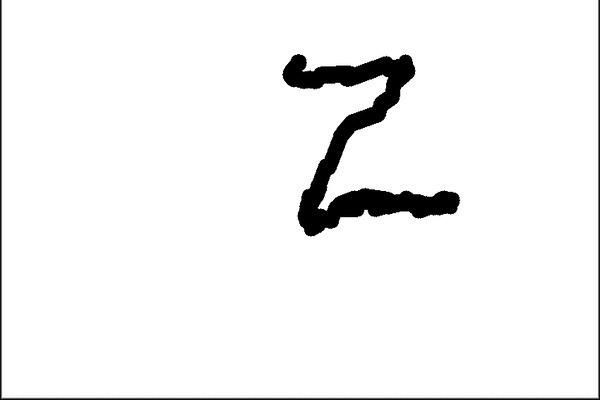Z: (269, 37, 477, 243)
